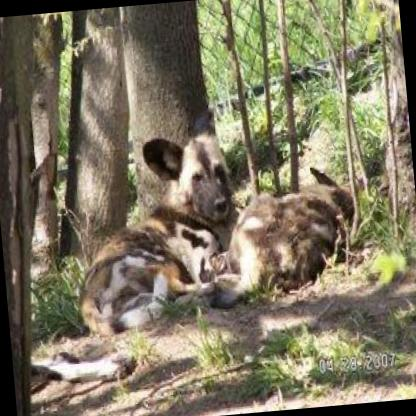African_hunting_dog: (58, 105, 252, 339), (197, 163, 359, 309)
